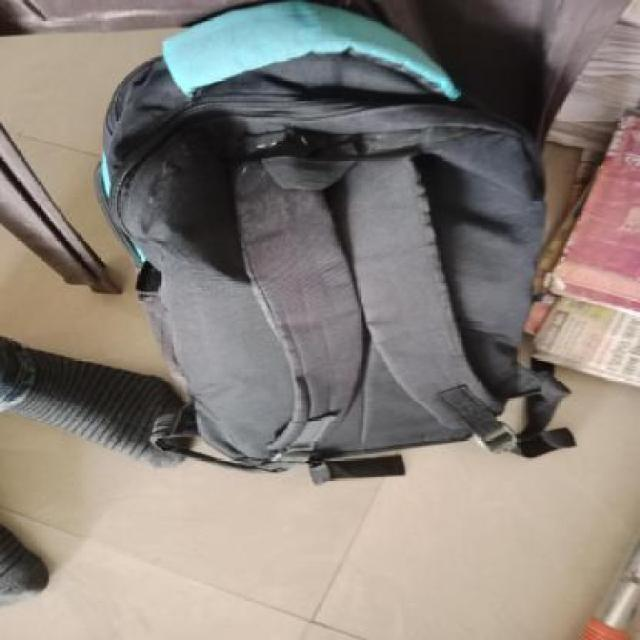backpack: (89, 0, 583, 489)
